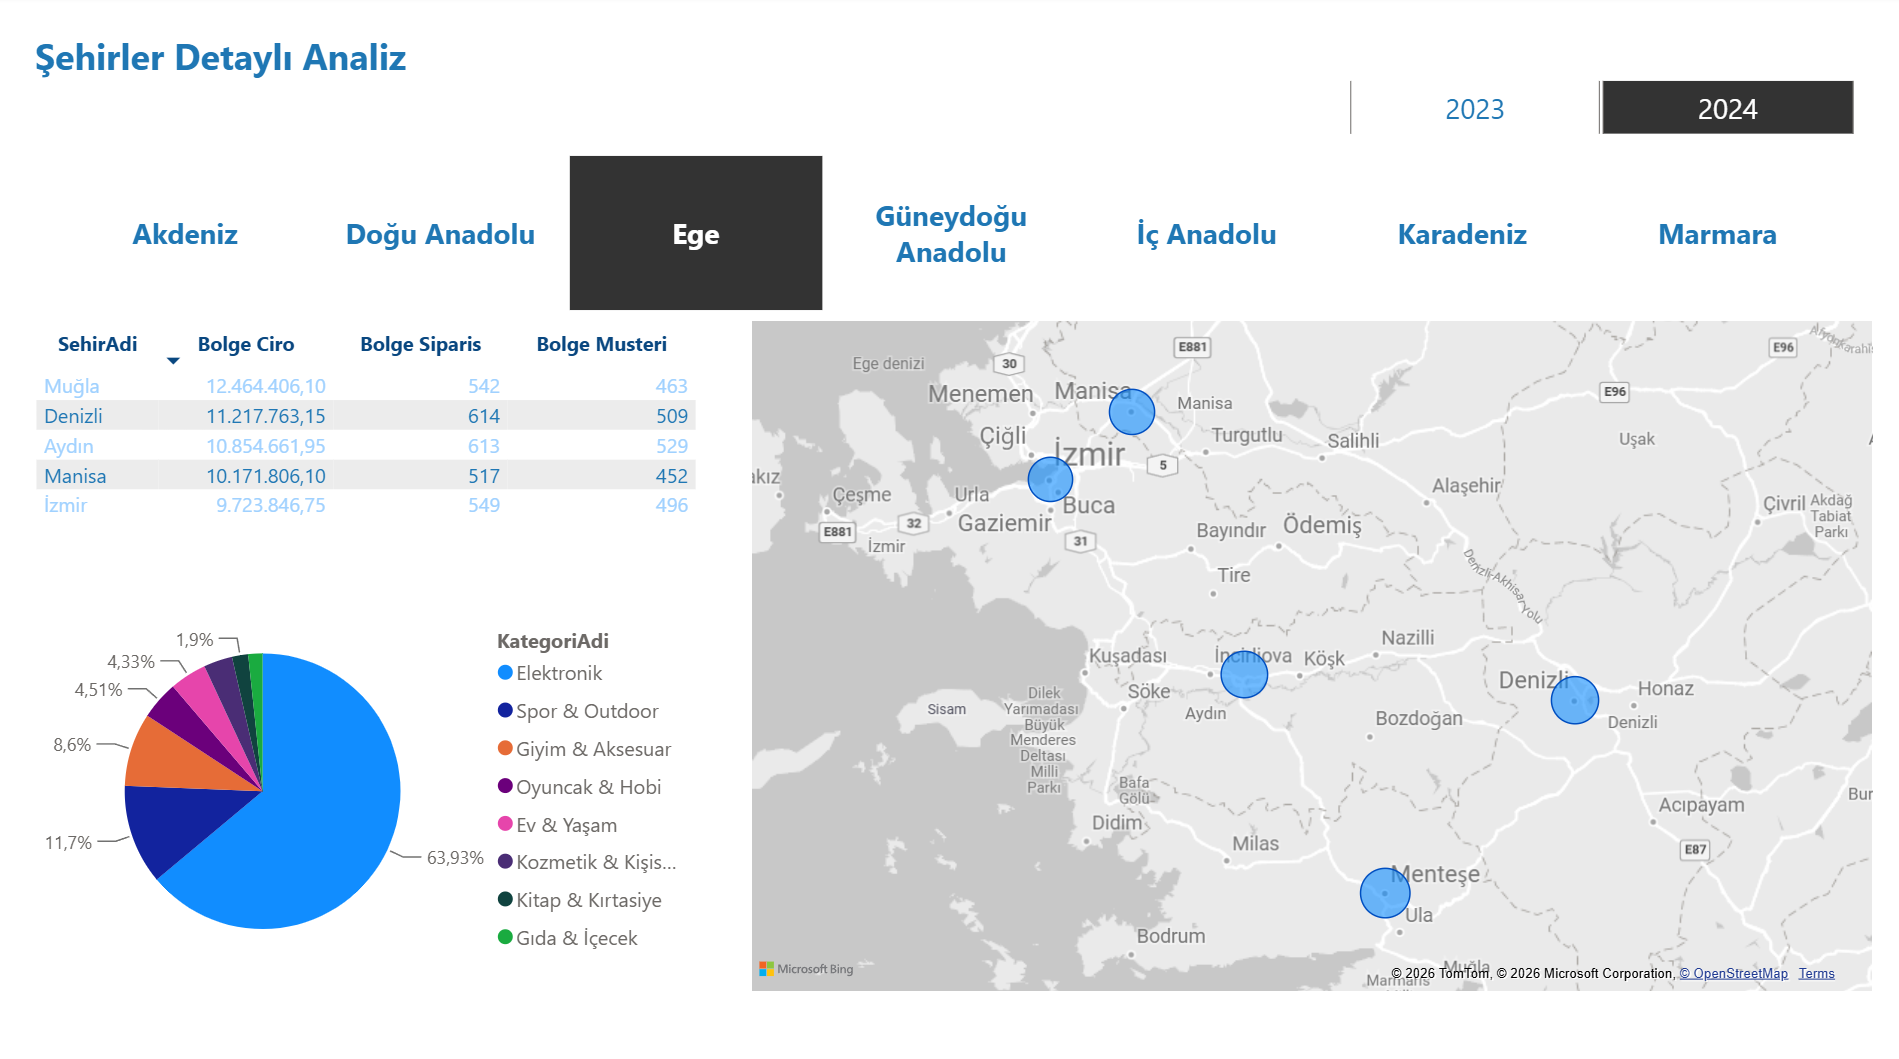

What the dashboard file says about the page in this screenshot:
{"tool":"powerbi","page":{"name":"Şehirler Detaylı","canvas":[1280,720],"ordinal":3},"visuals":[{"type":"textbox","box":[20.7,18.6,279.4,63.1],"z":0},{"type":"map","fields":{"Size":["VW_BolgeselSatis.Bolge Ciro"],"Category":["VW_BolgeselSatis.SehirAdi"]},"box":[501.9,208.2,761.4,464.7],"z":1000},{"type":"slicer","fields":{"Values":["VW_BolgeselSatis.BolgeAdi"]},"box":[16.6,100.4,1246.9,118],"z":2000},{"type":"slicer","fields":{"Values":["VW_BolgeselSatis.Yil"]},"box":[881.6,50.7,387,49.7],"z":3000},{"type":"tableEx","fields":{"Values":["VW_BolgeselSatis.SehirAdi","VW_BolgeselSatis.Bolge Ciro","VW_BolgeselSatis.Bolge Siparis","VW_BolgeselSatis.Bolge Musteri"]},"box":[21.1,218.3,455.6,176],"z":4000},{"type":"pieChart","fields":{"Category":["VW_BolgeselSatis.KategoriAdi"],"Y":["Sum(VW_BolgeselSatis.ToplamCiro)"]},"box":[16.1,394.3,460.6,278.6],"z":5000}]}

Visuals, with their boxes in screenshot pixels (x1, y1, x2, y2), scaled from the page's 1280x720 canvas onto the 1899x1059 screenshot:
textbox: x1=31, y1=27, x2=445, y2=120
map - VW_BolgeselSatis.Bolge Ciro x VW_BolgeselSatis.SehirAdi: x1=745, y1=306, x2=1874, y2=990
slicer - VW_BolgeselSatis.BolgeAdi: x1=25, y1=148, x2=1875, y2=321
slicer - VW_BolgeselSatis.Yil: x1=1308, y1=75, x2=1882, y2=148
tableEx - VW_BolgeselSatis.SehirAdi x VW_BolgeselSatis.Bolge Ciro: x1=31, y1=321, x2=707, y2=580
pieChart - VW_BolgeselSatis.KategoriAdi x Sum(VW_BolgeselSatis.ToplamCiro): x1=24, y1=580, x2=707, y2=990
